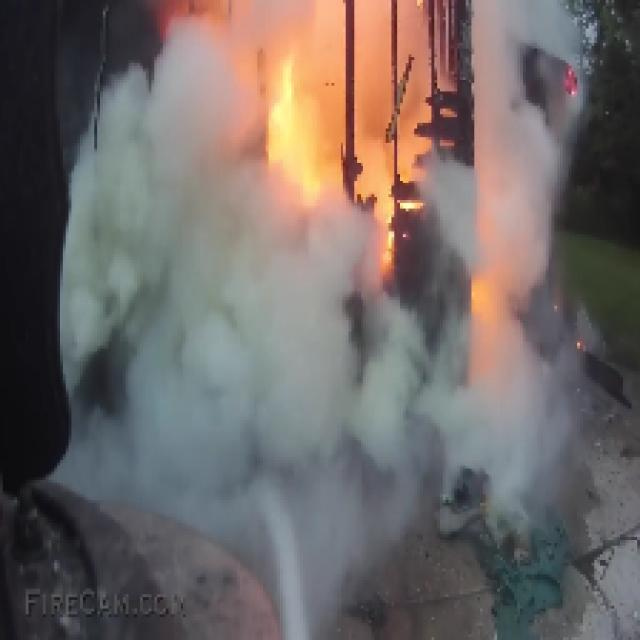Fire: (268, 42, 426, 268)
Smoke: (66, 6, 592, 626)
